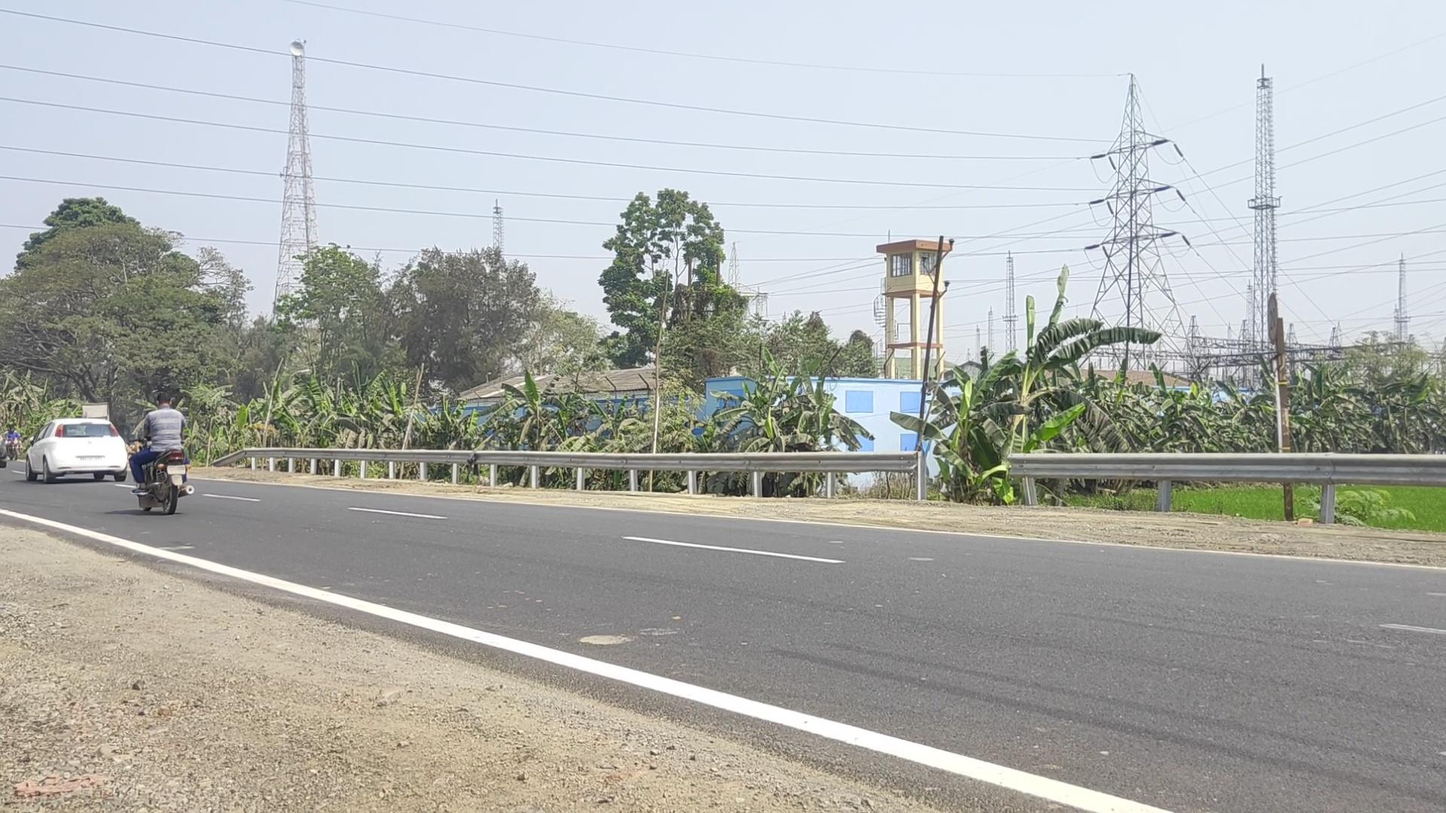bike: (129, 393, 194, 515), (5, 424, 22, 461)
car: (26, 418, 127, 485)
